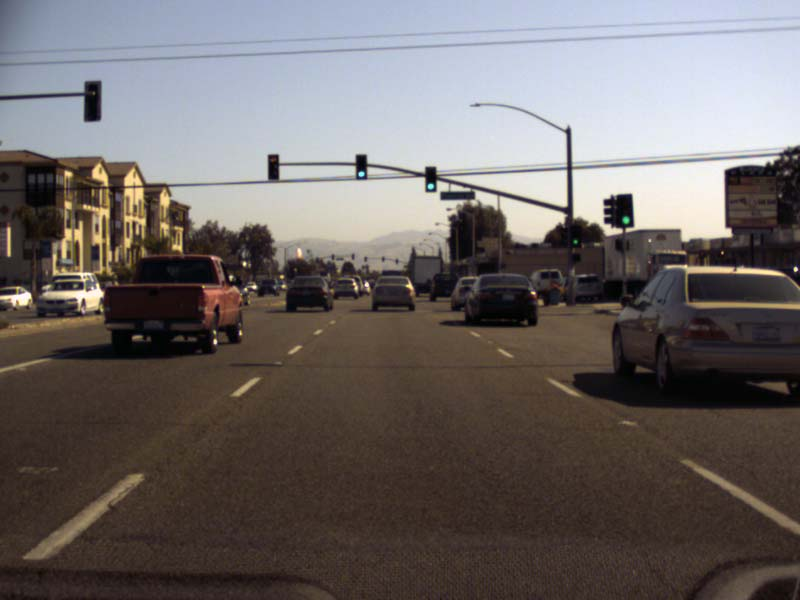Green: (617, 195, 631, 225), (425, 166, 435, 190), (356, 155, 366, 178), (572, 226, 580, 246)
Red: (268, 155, 277, 178)
